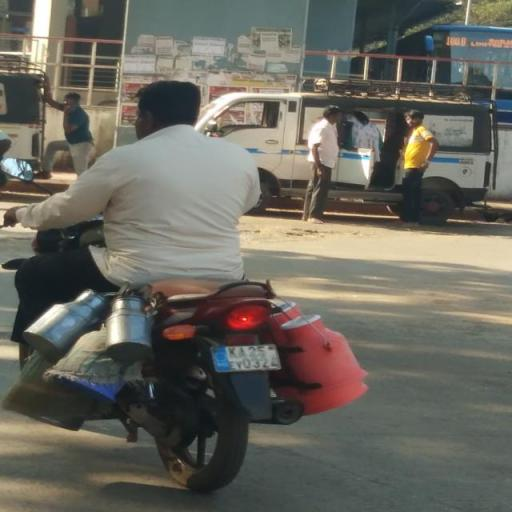bike: (5, 72, 324, 494)
numberplate: (215, 346, 286, 370)
withouthelmet: (138, 80, 202, 131)
